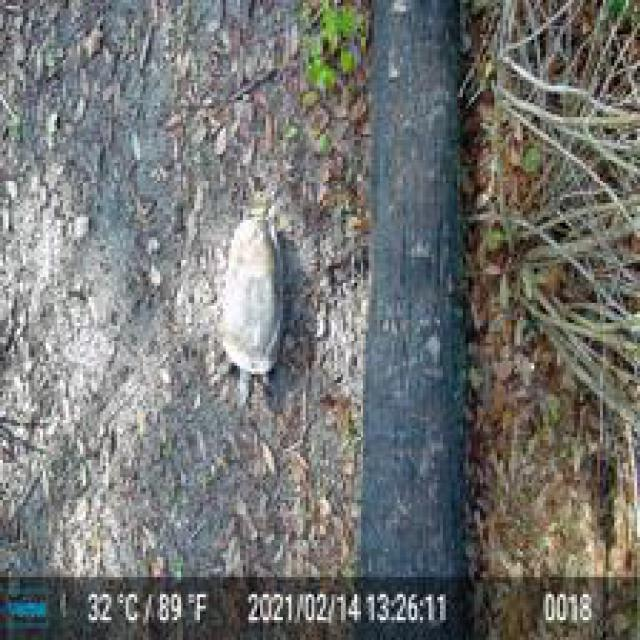tortoise: (220, 212, 280, 395)
